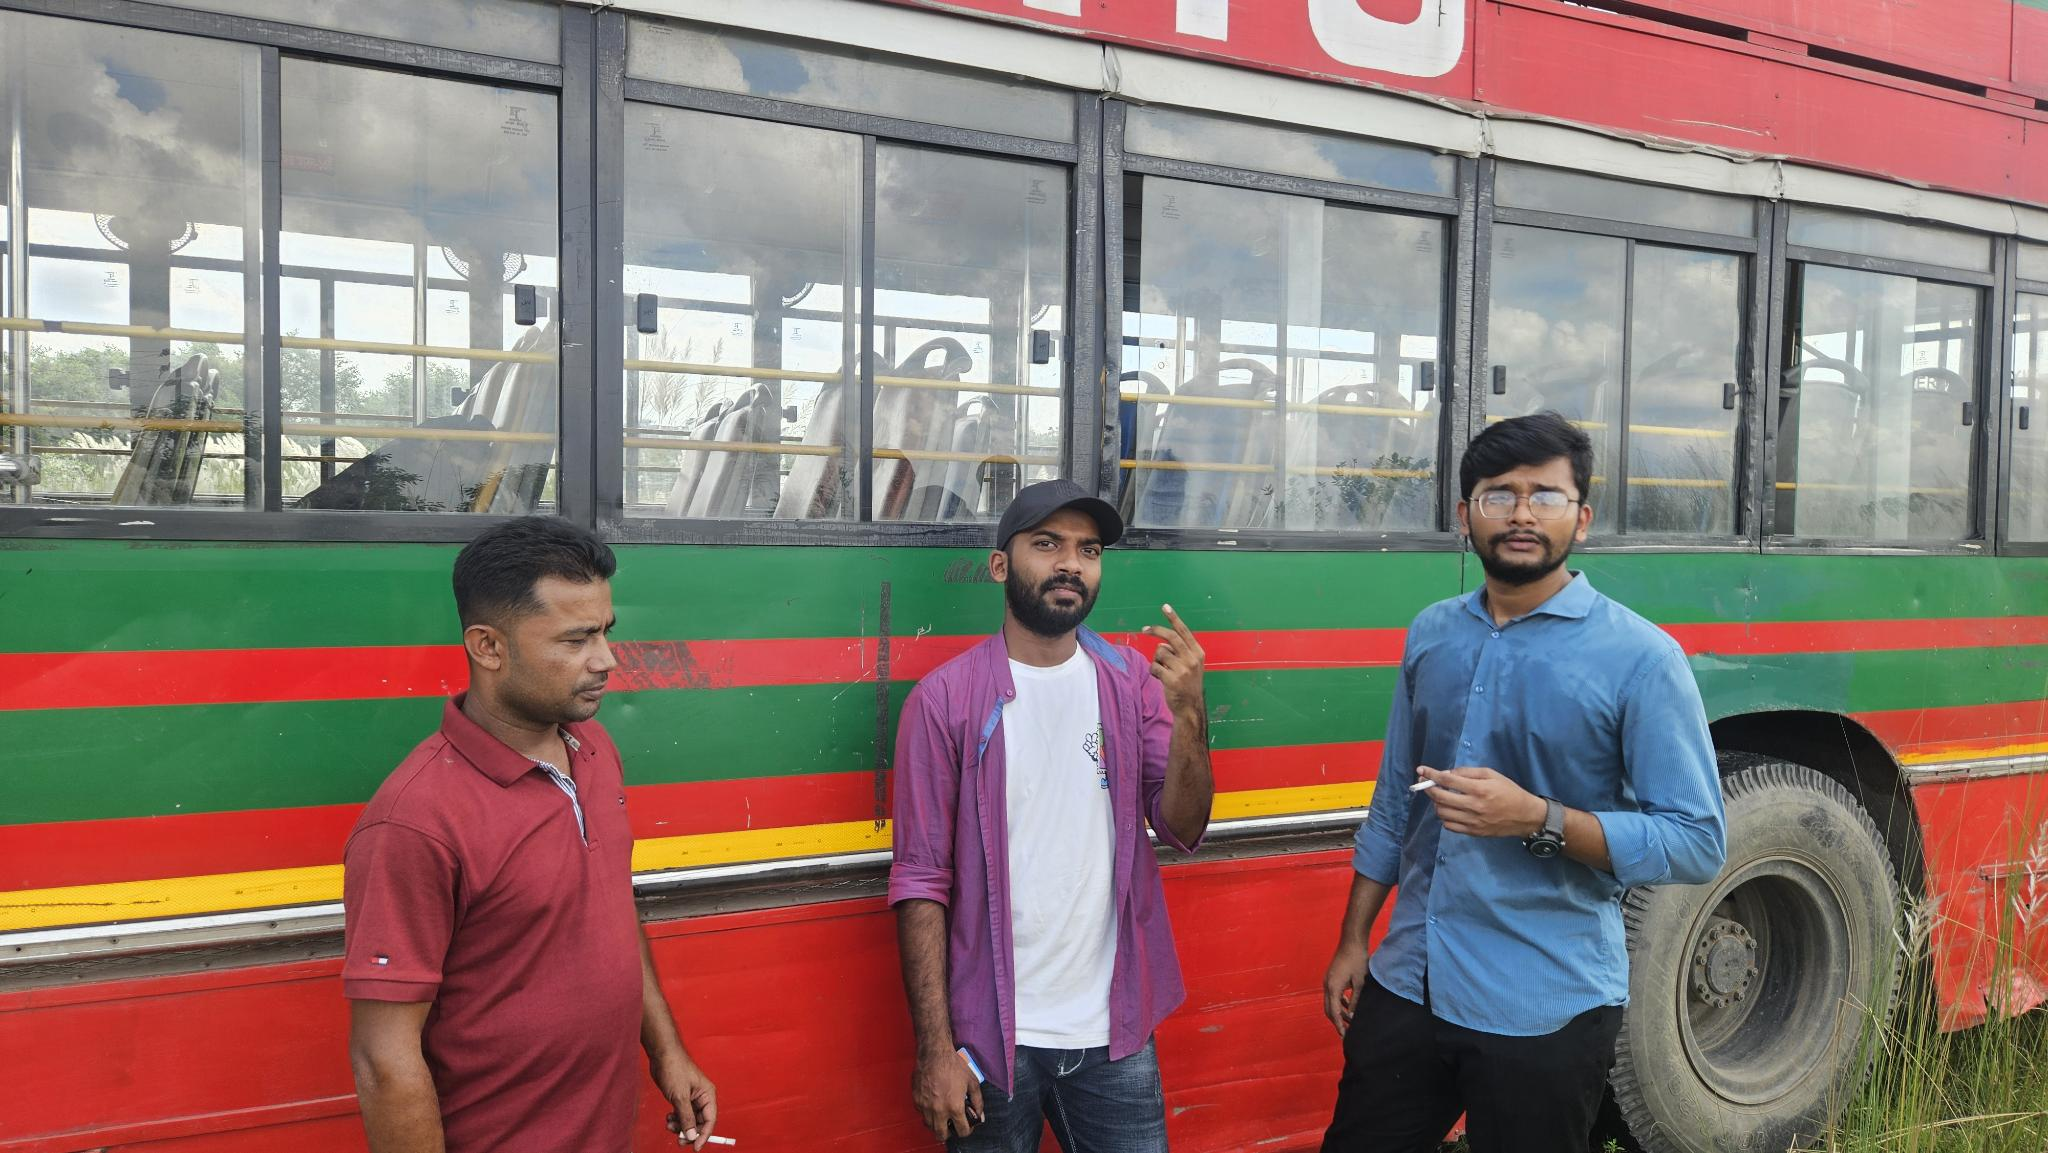cigarette: (677, 1129, 737, 1150), (1407, 779, 1438, 794)
nonSmoker: (886, 479, 1218, 1153)
smoker: (1318, 413, 1730, 1153), (338, 517, 717, 1153)
